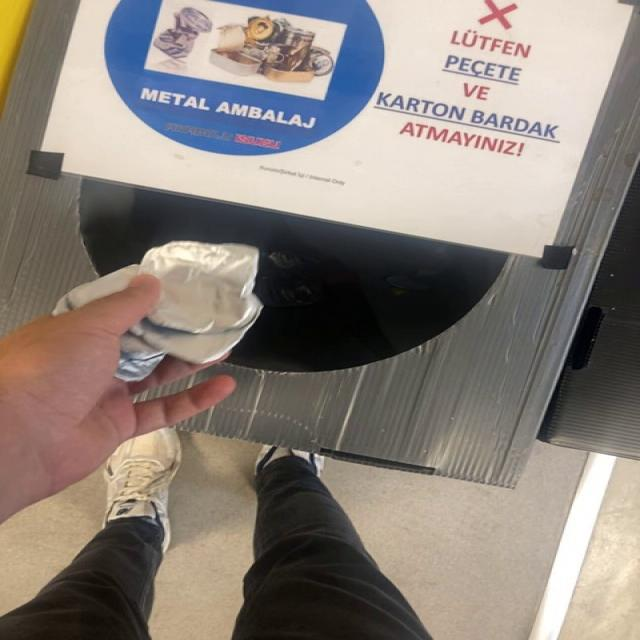metal: (139, 241, 260, 334)
